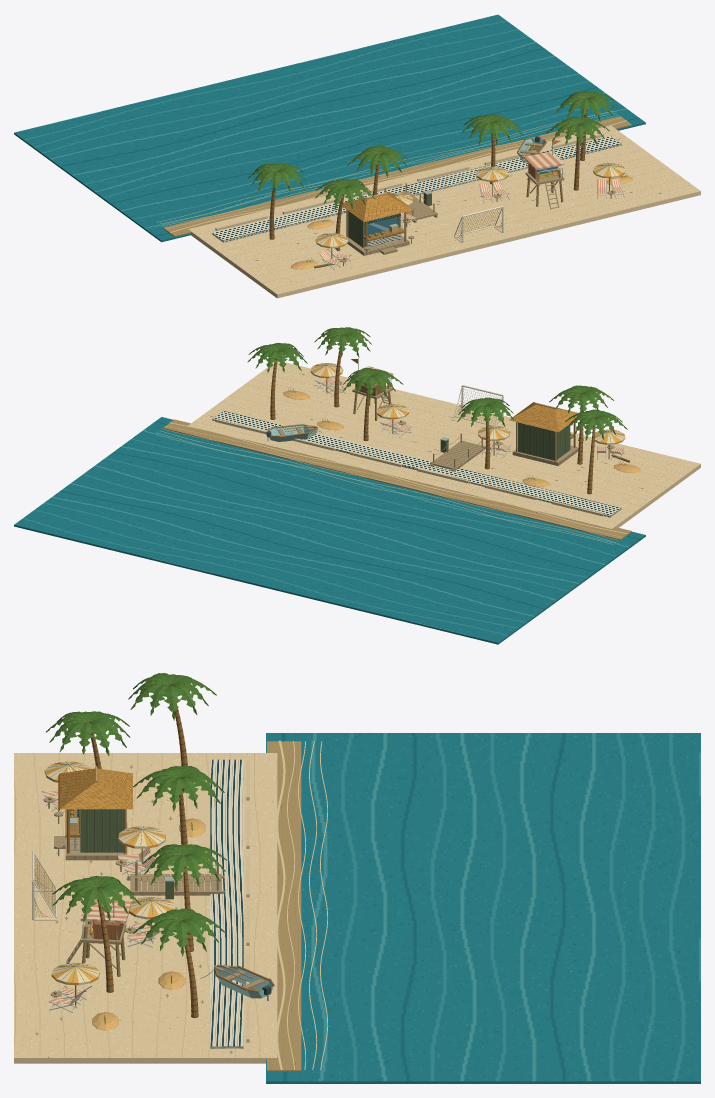
The model's file is beach-lod0.glb.
3 views of the same model, one above another, from view 1: azimuth 30°, elevation 25°; view 2: azimuth 150°, elevation 25°; view 3: azimuth 270°, elevation 25° (orthographic). The views are drawn at different scales.
Parts seen in each view (by area): view 1: beach-lod0; view 2: beach-lod0; view 3: beach-lod0.
Part boxes in pixels (<box>): beach-lod0: <box>14,14,700,298</box>; beach-lod0: <box>14,327,700,644</box>; beach-lod0: <box>14,673,700,1083</box>.
Bounding box in the file's own units: 36 × 5.67 × 30.
Materials: 1 (1 with a texture image).
